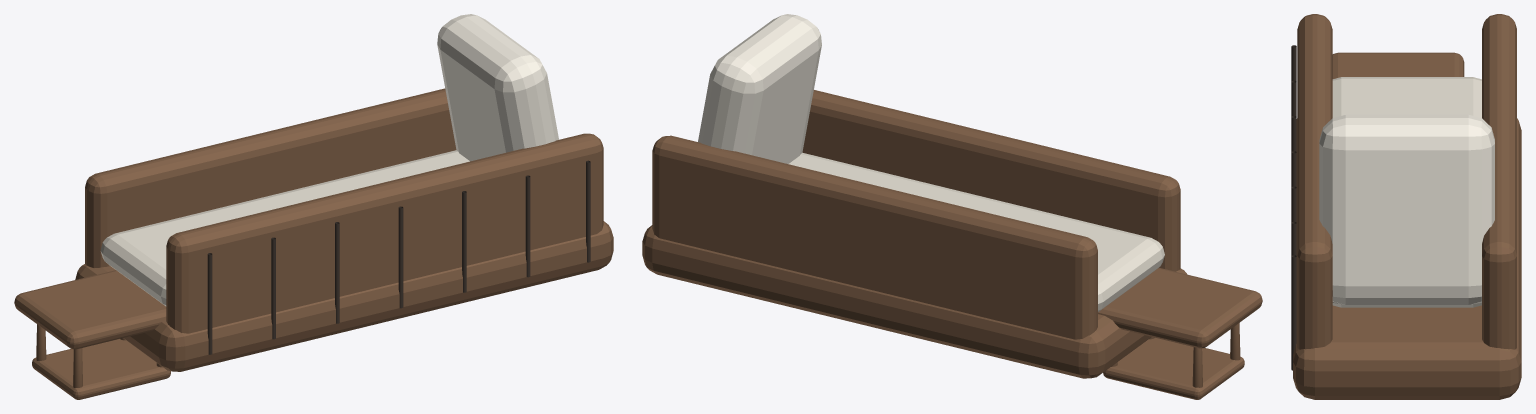
Rendered from monaco-able.glb.
3 views of the same model, side by side, from view 1: azimuth 30°, elevation 25°; view 2: azimuth 150°, elevation 25°; view 3: azimuth 270°, elevation 25° (orthographic). The views are drawn at different scales.
Parts seen in each view (by area): view 1: Monaco lounger side left, Monaco lounger side right, Monaco lounger rattan base, Monaco raised back cushion, Monaco seat cushion, Monaco side table top, Monaco side table shelf, Monaco side rib 4, Monaco side rib 6, Monaco side rib 1; view 2: Monaco lounger side right, Monaco lounger side left, Monaco lounger rattan base, Monaco raised back cushion, Monaco seat cushion, Monaco side table top, Monaco side table shelf; view 3: Monaco raised back cushion, Monaco lounger rattan base, Monaco lounger side left, Monaco lounger side right, Monaco seat cushion, Monaco side table top, Monaco side rib 7, Monaco side rib 3, Monaco side rib 5, Monaco side rib 1, Monaco side rib 2, Monaco side rib 4.
Part boxes in pixels (x1,y1,x2,y2): Monaco lounger side left: (166, 133, 603, 333); Monaco lounger side right: (85, 88, 456, 267); Monaco lounger rattan base: (75, 221, 613, 371); Monaco raised back cushion: (437, 14, 558, 161); Monaco seat cushion: (100, 150, 469, 306); Monaco side table top: (14, 270, 166, 349); Monaco side table shelf: (32, 339, 170, 399); Monaco side rib 4: (398, 206, 403, 308); Monaco side rib 6: (525, 175, 530, 277); Monaco side rib 1: (207, 253, 212, 354); Monaco lounger side right: (652, 135, 1097, 339); Monaco lounger side left: (802, 90, 1180, 271); Monaco lounger rattan base: (642, 225, 1187, 378); Monaco raised back cushion: (698, 14, 821, 163); Monaco seat cushion: (788, 152, 1164, 311); Monaco side table top: (1098, 267, 1262, 348); Monaco side table shelf: (1103, 337, 1244, 399); Monaco raised back cushion: (1319, 114, 1494, 304); Monaco lounger rattan base: (1293, 118, 1521, 399); Monaco lounger side left: (1297, 14, 1332, 349); Monaco lounger side right: (1482, 14, 1516, 349); Monaco seat cushion: (1332, 77, 1481, 307); Monaco side table top: (1332, 52, 1464, 78); Monaco side rib 7: (1291, 255, 1296, 370); Monaco side rib 3: (1291, 116, 1296, 151); Monaco side rib 5: (1291, 186, 1296, 222); Monaco side rib 1: (1291, 45, 1296, 81); Monaco side rib 2: (1291, 80, 1296, 116); Monaco side rib 4: (1291, 151, 1296, 187).
Bounding box in the file's own units: 3.19 × 1.35 × 1.05.
